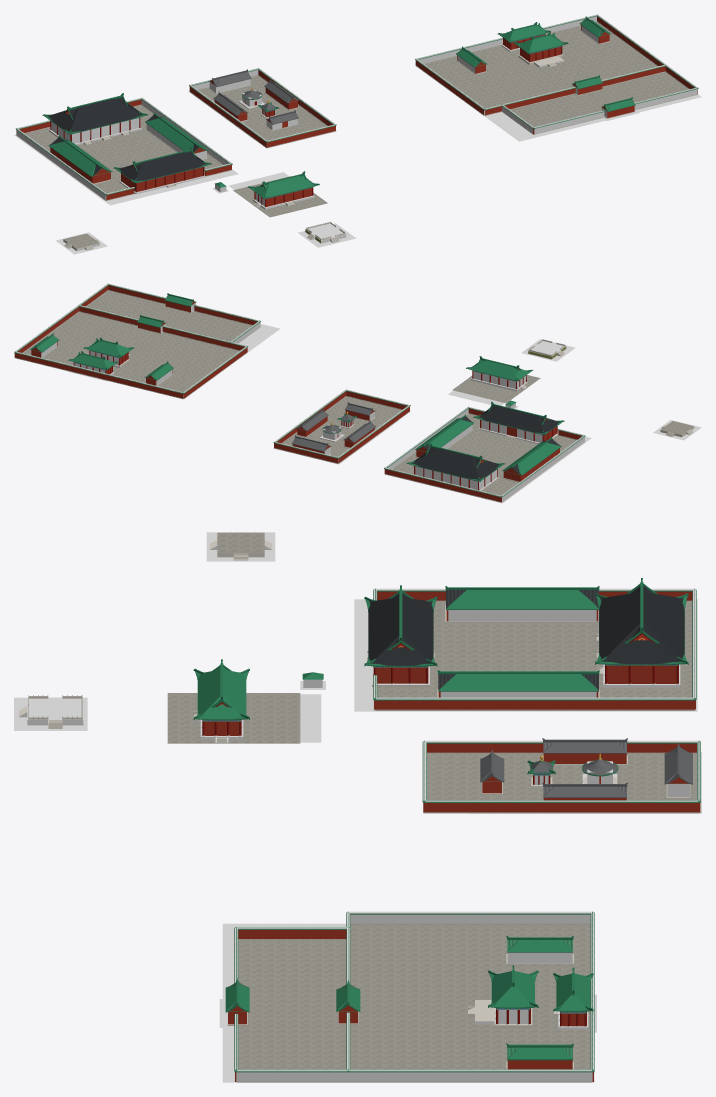
File: xiannongtan.glb
The picture shows the model from 3 angles, top to bottom: view 1: azimuth 30°, elevation 25°; view 2: azimuth 150°, elevation 25°; view 3: azimuth 270°, elevation 25°; orthographic projection. The views are drawn at different scales.
Parts seen in each view (by area): view 1: Temple, Massing, FOOTPRINT_qingcheng, COL_h12, COL_b1, FOOTPRINT_taisui, COL_h4, COL_h2, COL_h15, COL_h16, COL_b11; view 2: Temple, Massing, COL_b1, COL_h4, FOOTPRINT_qingcheng, COL_h2, COL_b10; view 3: Temple, Massing, COL_h11, COL_h13, FOOTPRINT_taisui, FOOTPRINT_qingcheng, COL_b7, COL_h17, COL_b11, COL_b6, FOOTPRINT_jufu, COL_h2 (+1 smaller).
Boxes of the visible parts, x1,y1,x2,y2 form: Temple: [16, 14, 698, 250]; Massing: [19, 20, 697, 249]; FOOTPRINT_qingcheng: [415, 65, 701, 141]; COL_h12: [416, 14, 596, 63]; COL_b1: [51, 118, 139, 143]; FOOTPRINT_taisui: [14, 134, 238, 205]; COL_h4: [16, 128, 106, 200]; COL_h2: [141, 98, 231, 164]; COL_h15: [534, 110, 604, 133]; COL_h16: [634, 88, 697, 109]; COL_b11: [305, 223, 346, 242]; Temple: [14, 284, 694, 502]; Massing: [15, 285, 694, 502]; COL_b1: [415, 466, 496, 490]; COL_h4: [501, 435, 584, 501]; FOOTPRINT_qingcheng: [14, 324, 279, 399]; COL_h2: [385, 407, 468, 468]; COL_b10: [473, 371, 525, 388]; Temple: [19, 532, 700, 1082]; Massing: [197, 553, 692, 1081]; COL_h11: [348, 1069, 592, 1081]; COL_h13: [348, 911, 592, 923]; FOOTPRINT_taisui: [354, 599, 697, 711]; FOOTPRINT_qingcheng: [222, 923, 594, 1082]; COL_b7: [448, 610, 596, 621]; COL_h17: [236, 1069, 348, 1081]; COL_b11: [27, 698, 83, 724]; COL_b6: [440, 691, 596, 697]; FOOTPRINT_jufu: [300, 694, 321, 742]; COL_h2: [375, 697, 694, 699].
Size of the model in its own units: 435 by 20.26 by 230.
14 materials, 7 textured.
